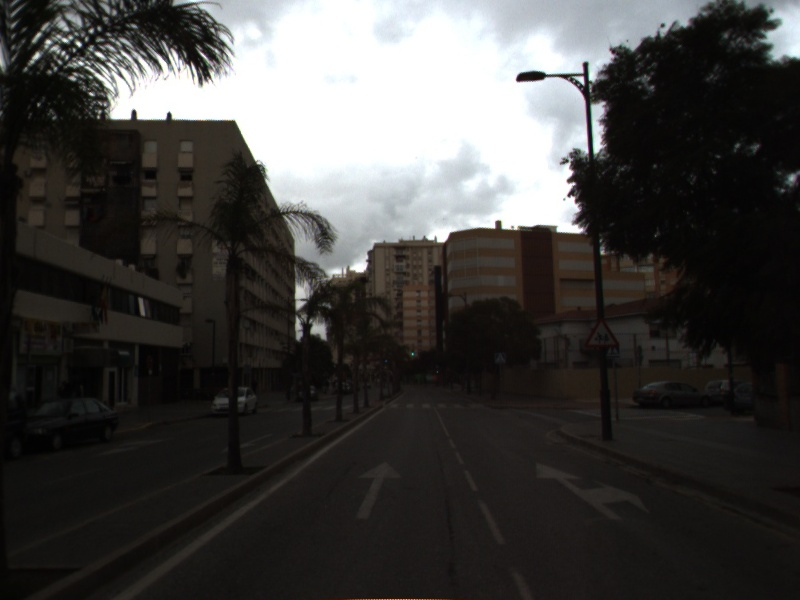STRAIGHT: (350, 458, 406, 522)
STRAIGHT_RIGHT: (533, 459, 653, 522)
